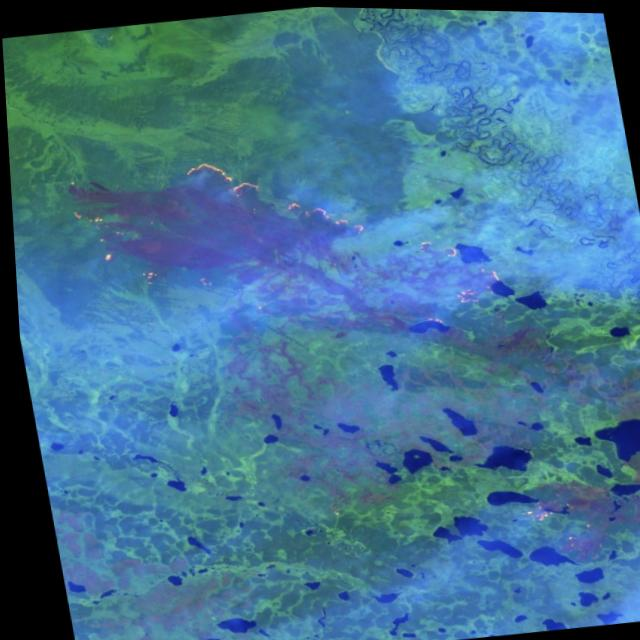fire: (42, 113, 536, 389), (510, 468, 640, 574)
